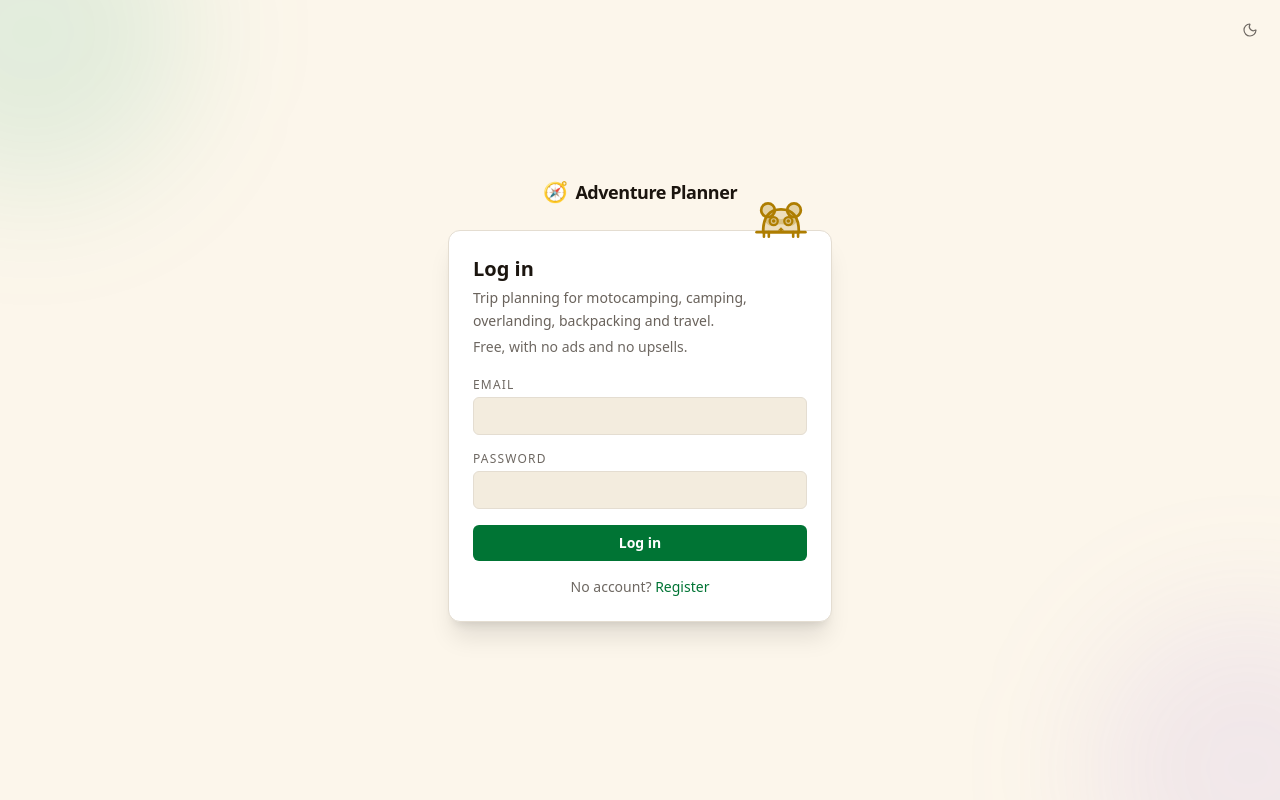
Login › shows the server's error message on failed login
The width and height of the screenshot is (1280, 800).
Type "sam@bagend.dev" into the field labelled "Email" at x=640, y=416, box [473,397,807,435]
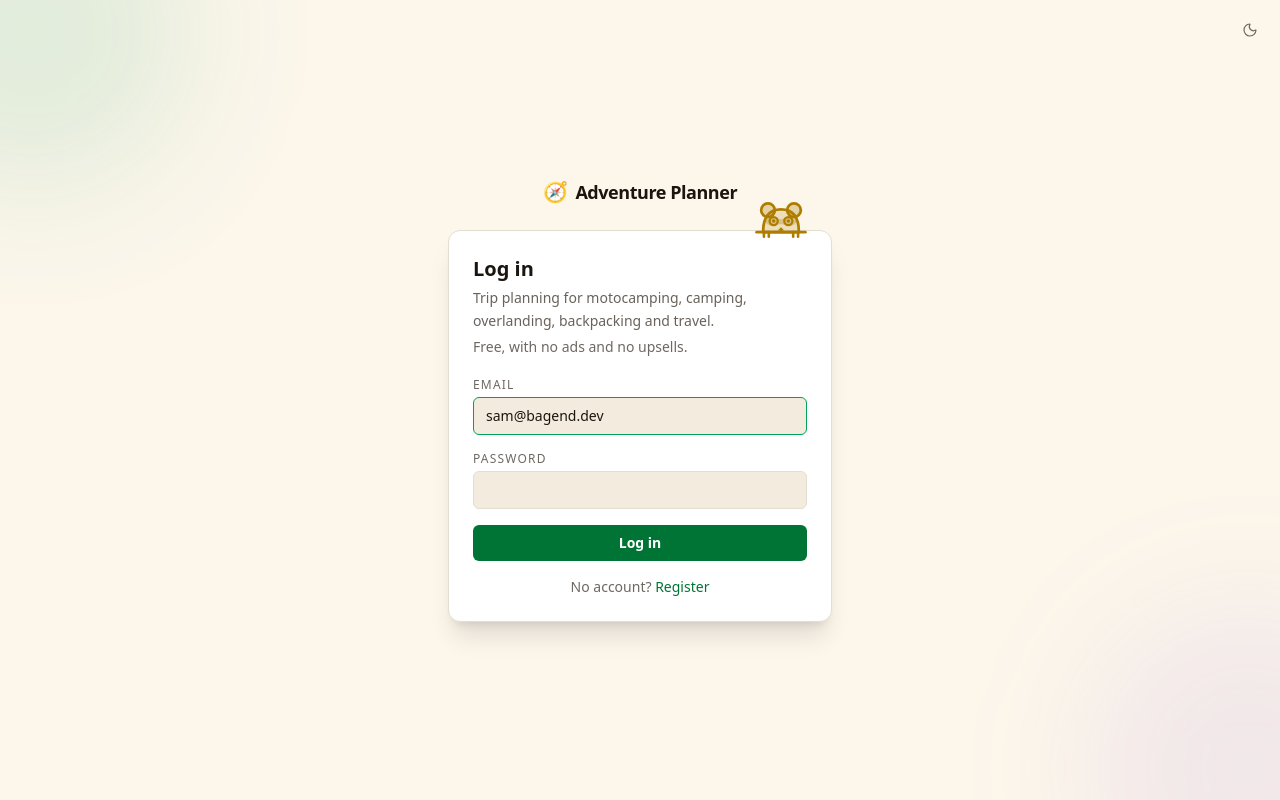
Type "wrong-password" into the password field labelled "Password" at x=640, y=490, box [473,471,807,509]
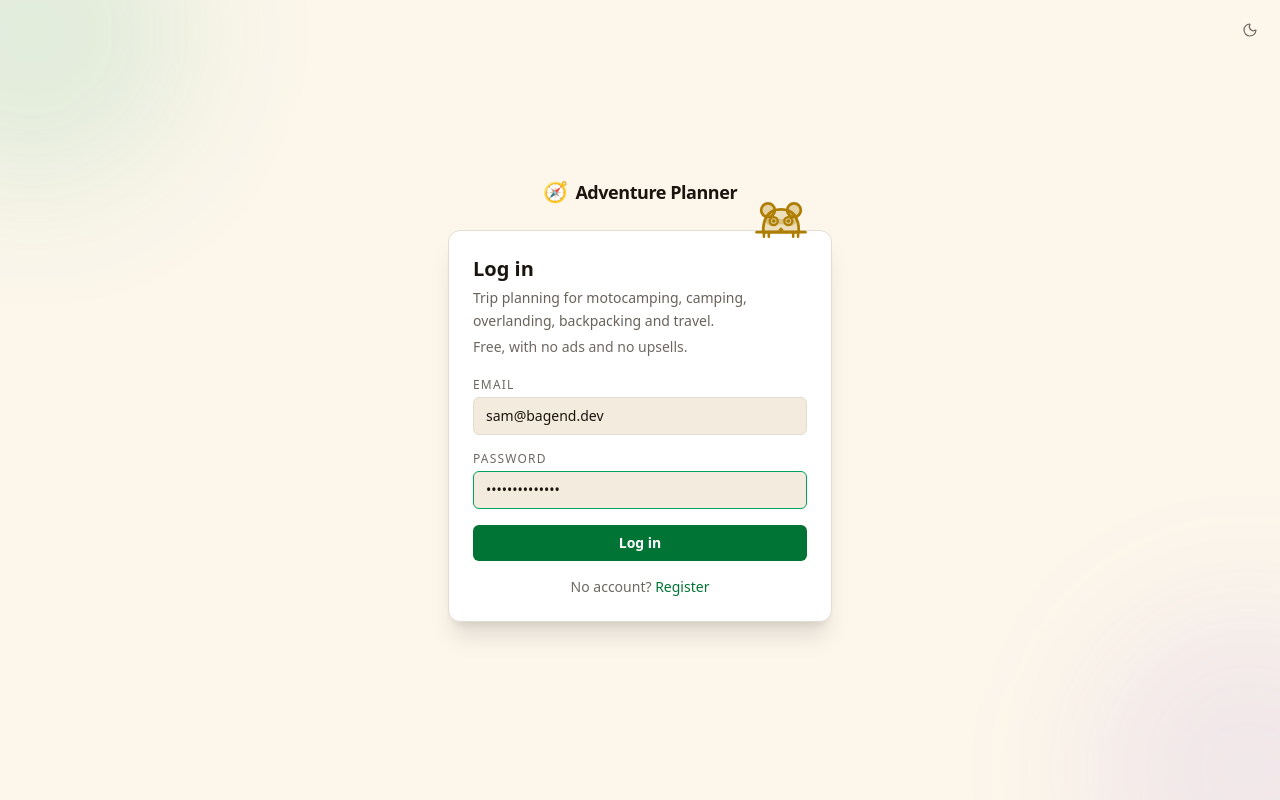
Click the button "Log in" at x=640, y=543, box [473,525,807,561]
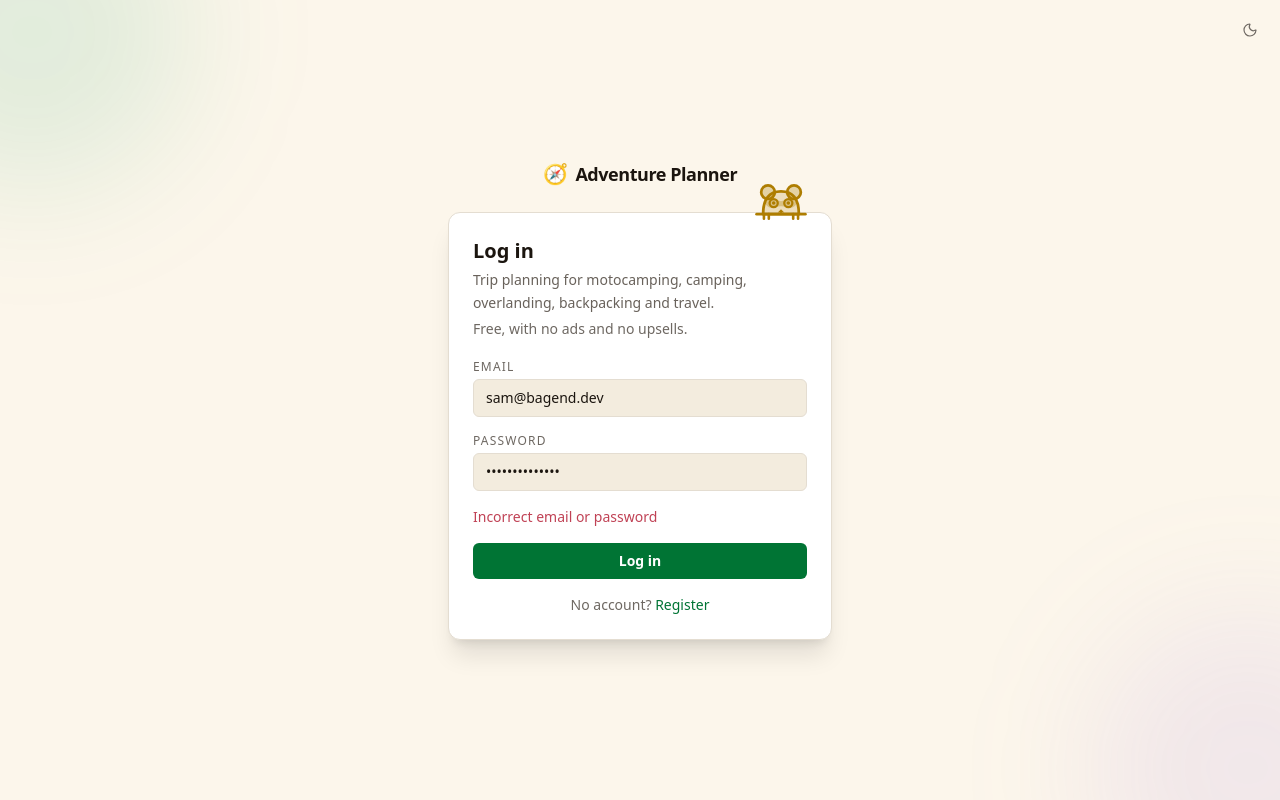
expect the text "Incorrect email or password" is shown: met, box [473,507,657,526]
